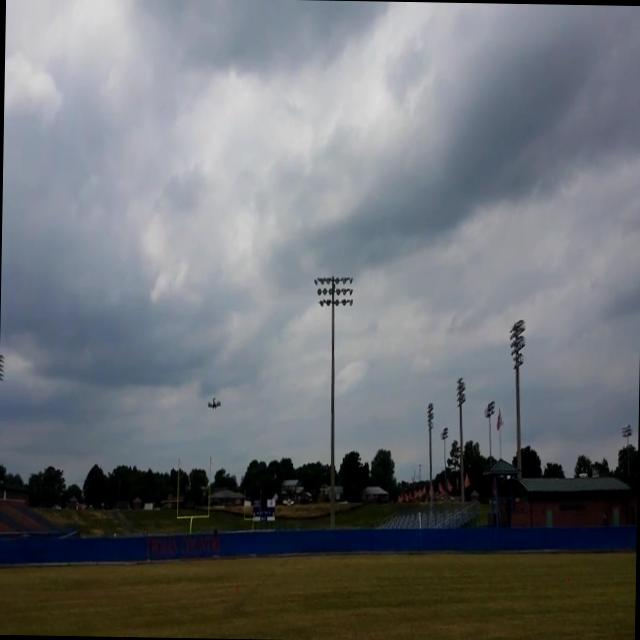drone: (205, 396, 222, 412)
